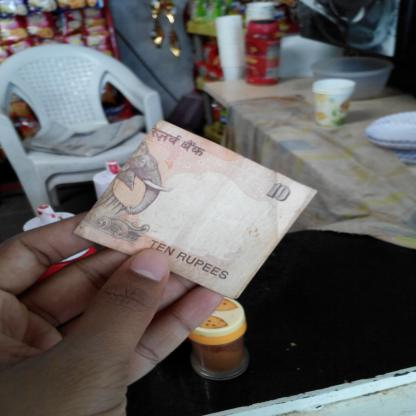Old10Back: (71, 118, 318, 300)
